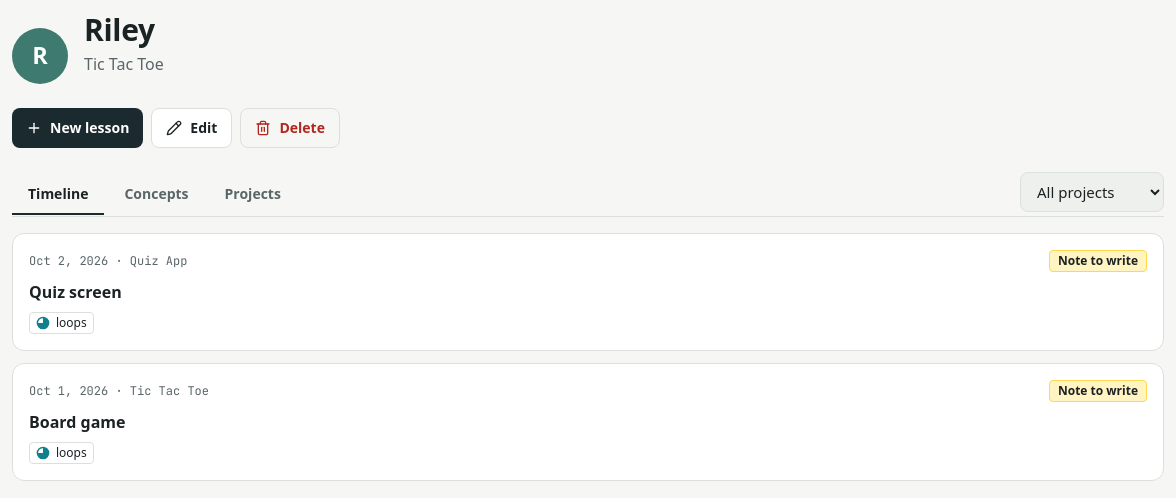
Scenario: StudentPage › finishes and reopens a project
Click the button "projects": (253, 194) [209,174,297,214]
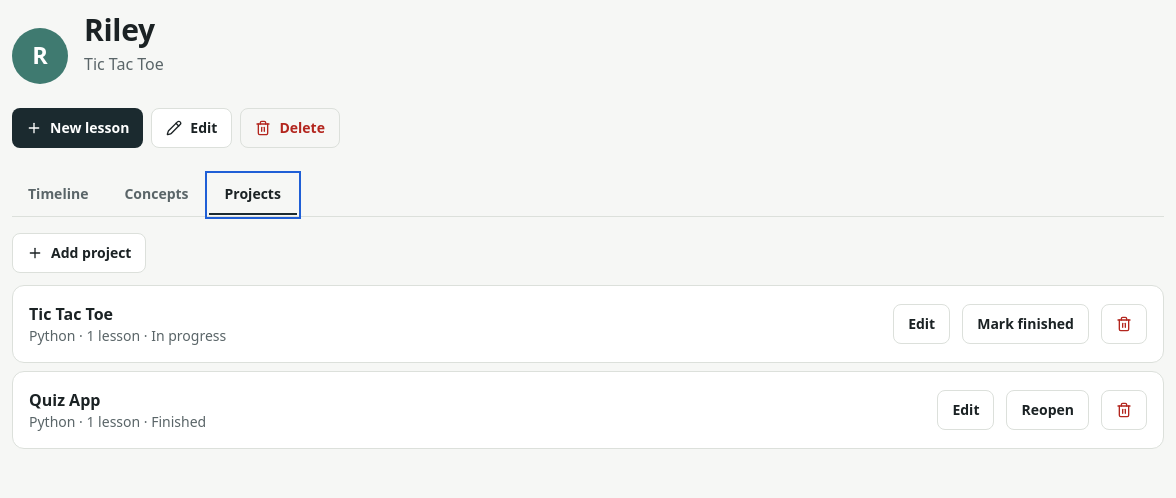
Click the button "Mark finished": (1026, 324) [962,304,1089,344]
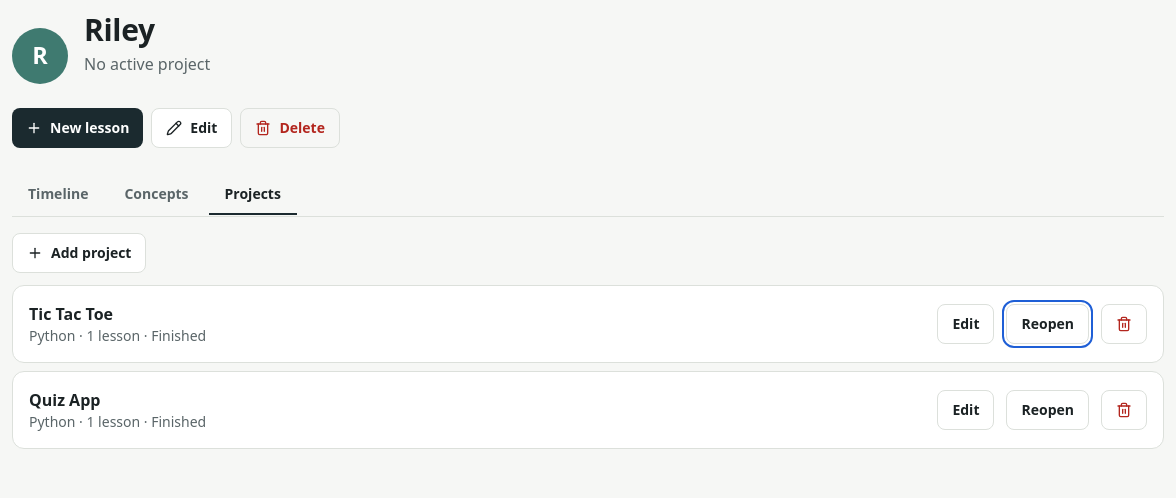
Result: the number of buttons "Reopen" is 2 at [1006,304,1089,344]; [1006,390,1089,430]
Result: the button "Mark finished" is gone
